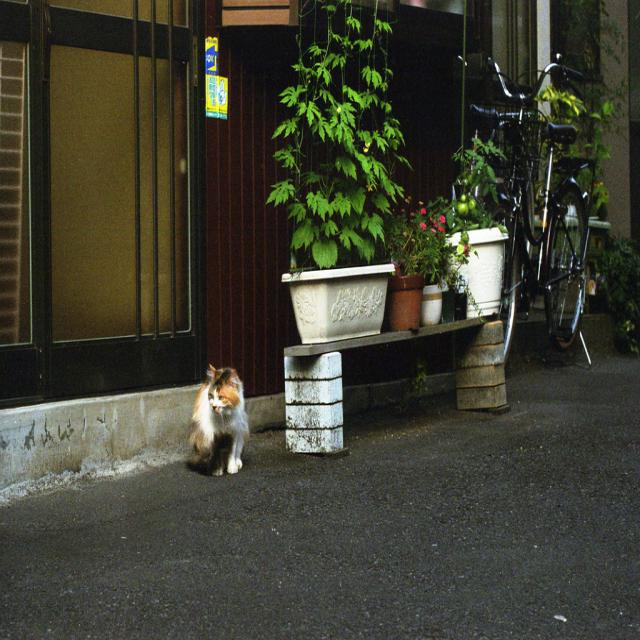Cat: (187, 363, 249, 478)
